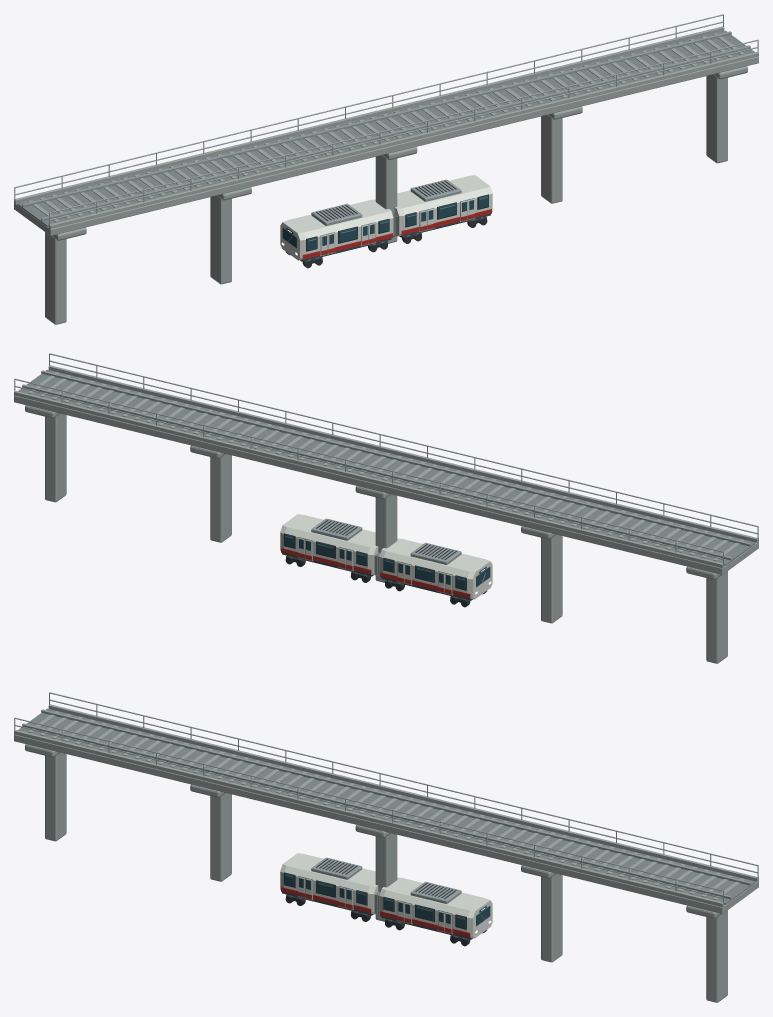
The model's file is sukhumvit-railway.glb.
3 views of the same model, one above another, from view 1: azimuth 30°, elevation 25°; view 2: azimuth 150°, elevation 25°; view 3: azimuth 330°, elevation 25° (orthographic).
Visible parts, largest first — view 1: CivilStructureMesh, CarBodiesMesh, CabGlazingMesh, BogieFramesMesh; view 2: CivilStructureMesh, CarBodiesMesh, CabGlazingMesh, BogieFramesMesh; view 3: CivilStructureMesh, CarBodiesMesh, CabGlazingMesh, BogieFramesMesh.
Part boxes in pixels (bbox=[...]): CivilStructureMesh: bbox=[14, 14, 758, 324]; CarBodiesMesh: bbox=[280, 175, 492, 261]; CabGlazingMesh: bbox=[281, 194, 488, 255]; BogieFramesMesh: bbox=[286, 214, 487, 268]; CivilStructureMesh: bbox=[14, 353, 758, 663]; CarBodiesMesh: bbox=[280, 514, 492, 600]; CabGlazingMesh: bbox=[284, 533, 491, 594]; BogieFramesMesh: bbox=[285, 553, 486, 607]; CivilStructureMesh: bbox=[14, 692, 758, 1002]; CarBodiesMesh: bbox=[280, 853, 492, 939]; CabGlazingMesh: bbox=[284, 872, 491, 933]; BogieFramesMesh: bbox=[285, 892, 486, 946].
Size of the model in its own units: 30.04 by 5.1 by 2.7.
